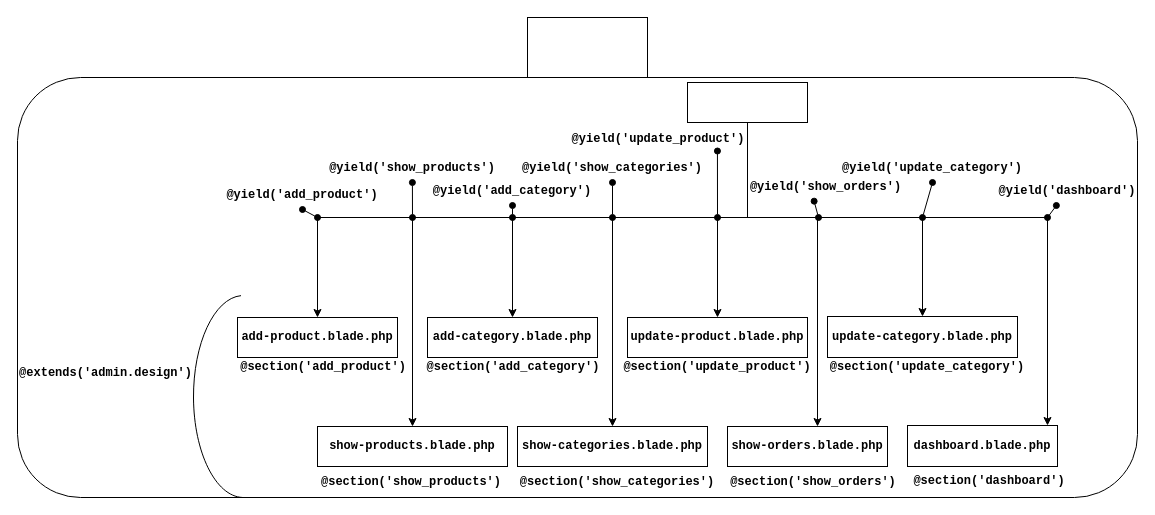
This 1155x515 diagram has some shape labels left out. Here are the shapes that lost their labels. From the top down, the box of each, then its label:
(526, 16, 648, 78): ...\views\admin
(686, 82, 808, 122): design.blade.php
